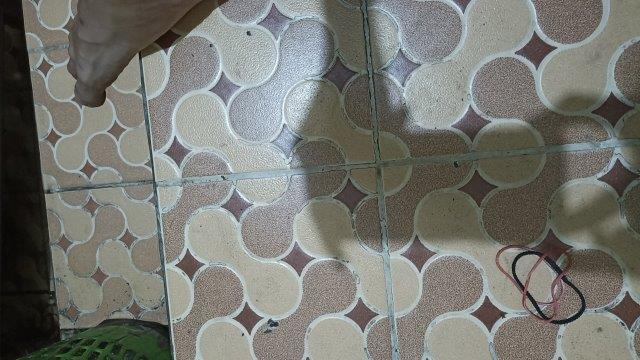karet: (496, 244, 586, 325)
